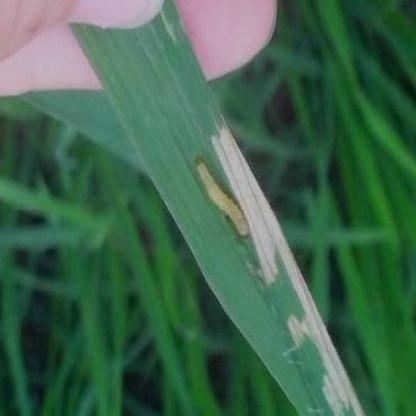leaf-folder: (188, 147, 264, 248)
